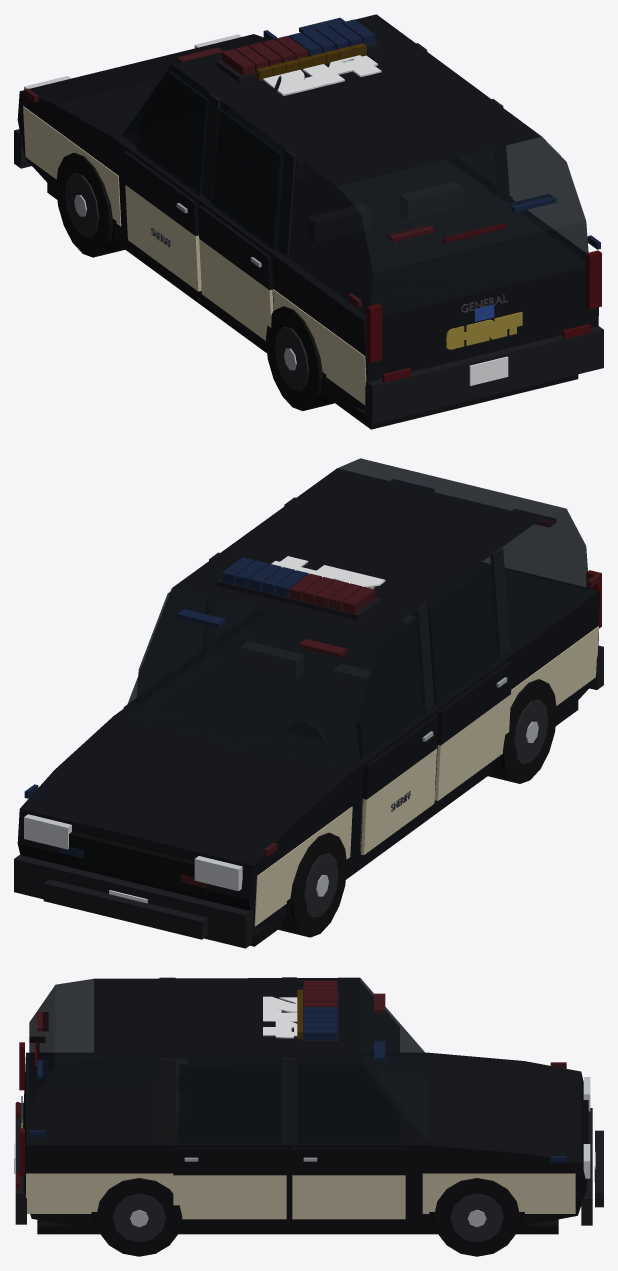
Rendered from patrol_suv_214.glb.
The picture shows the model from 3 angles, top to bottom: view 1: azimuth 30°, elevation 25°; view 2: azimuth 150°, elevation 25°; view 3: azimuth 270°, elevation 25°; orthographic projection. The views are drawn at different scales.
Visible parts, largest first — view 1: Body, Door_RL, Door_FL, Wheel_FL, Wheel_RL, Interior, Decal_Roof, Decal_Sheriff, Taillight_L, Taillight_R, Plate_Rear, ELS_CELL_0; view 2: Body, Door_RL, Door_FL, Wheel_FL, Wheel_RL, Interior, Headlight_L, Headlight_R, Decal_Roof, LightBar_Housing; view 3: Body, Door_RR, Door_FR, Wheel_FR, Wheel_RR, Decal_Roof, ELS_CELL_9, LightBar_Housing.
Boxes of the visible parts, bbox=[...] form: Body: bbox=[14, 14, 603, 429]; Door_RL: bbox=[197, 107, 283, 340]; Door_FL: bbox=[123, 71, 208, 291]; Wheel_FL: bbox=[56, 152, 124, 257]; Wheel_RL: bbox=[265, 306, 334, 410]; Interior: bbox=[281, 158, 463, 242]; Decal_Roof: bbox=[263, 55, 381, 95]; Decal_Sheriff: bbox=[446, 312, 522, 349]; Taillight_L: bbox=[366, 304, 382, 362]; Taillight_R: bbox=[586, 250, 601, 309]; Plate_Rear: bbox=[469, 356, 508, 385]; ELS_CELL_0: bbox=[222, 49, 254, 75]; Body: bbox=[14, 458, 603, 948]; Door_RL: bbox=[427, 563, 512, 800]; Door_FL: bbox=[357, 616, 438, 854]; Wheel_FL: bbox=[278, 832, 347, 937]; Wheel_RL: bbox=[488, 679, 556, 783]; Interior: bbox=[240, 615, 414, 740]; Headlight_L: bbox=[194, 856, 242, 891]; Headlight_R: bbox=[24, 814, 71, 849]; Decal_Roof: bbox=[271, 556, 385, 588]; LightBar_Housing: bbox=[216, 577, 380, 620]; Body: bbox=[15, 977, 603, 1239]; Door_RR: bbox=[173, 1064, 286, 1219]; Door_FR: bbox=[292, 1063, 405, 1219]; Wheel_FR: bbox=[434, 1178, 519, 1256]; Wheel_RR: bbox=[96, 1178, 182, 1256]; Decal_Roof: bbox=[263, 996, 297, 1038]; ELS_CELL_9: bbox=[303, 1028, 337, 1039]; LightBar_Housing: bbox=[302, 986, 338, 1045].
Size of the model in its own units: 2.04 by 1.98 by 5.21.
